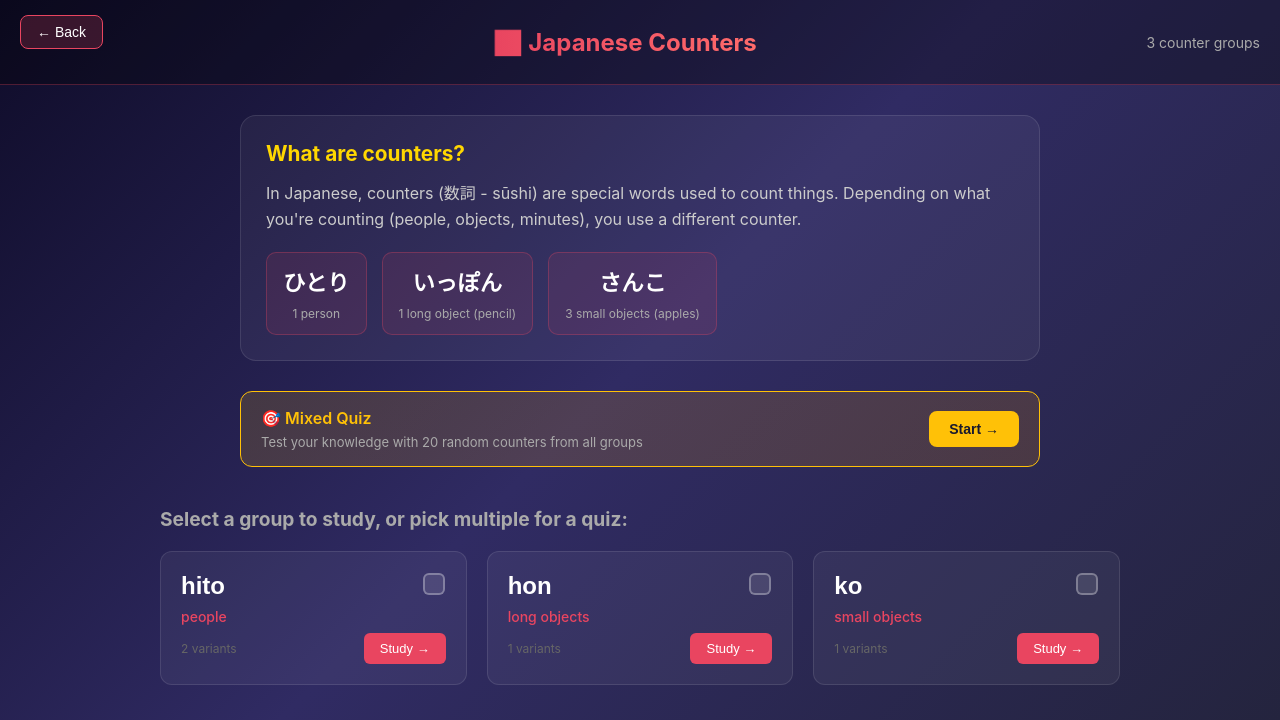
Test case: CountersMode uncovered flows › should start category quiz from selected groups
Expected: the heading "hito" is shown, [181,572,225,600]
Click the checkbox with class "group-checkbox" in the row of "hito". click: (434,584)
box: [422,572,446,596]
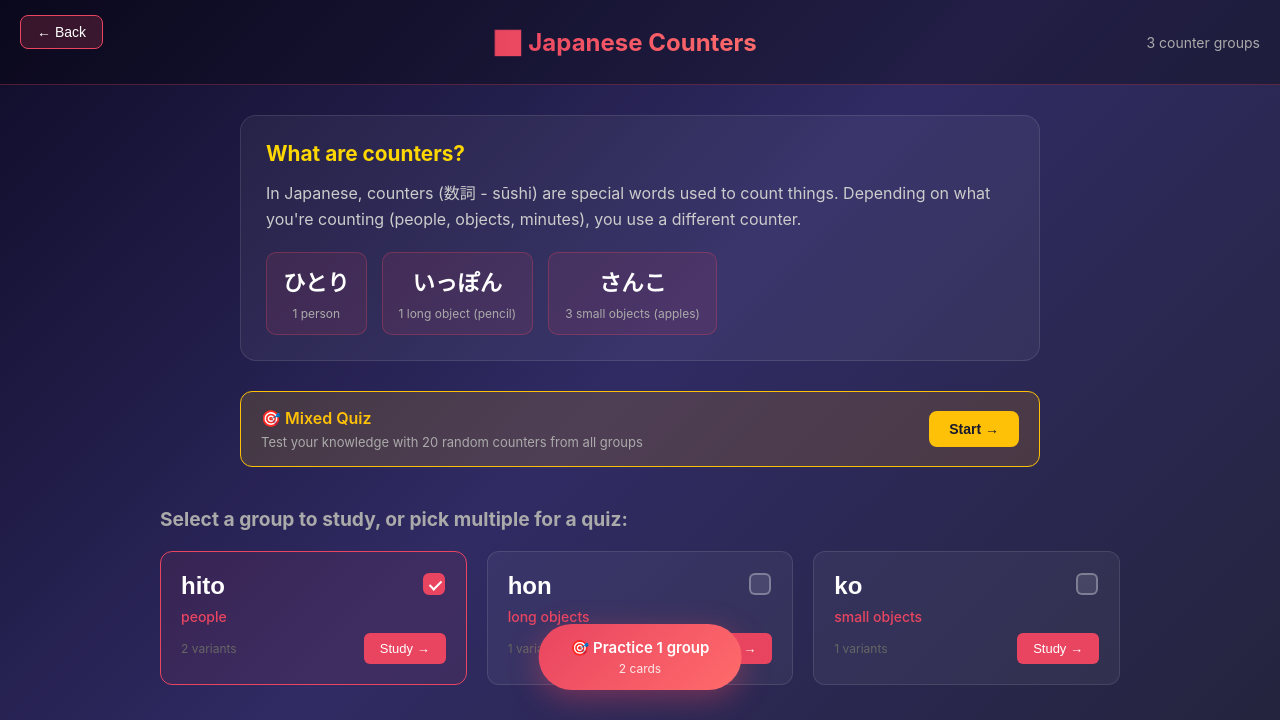
Now the text "🎯 Practice 1 group" is shown
Click the text "🎯 Practice 1 group". click: (640,648)
box: [571,638,709,657]
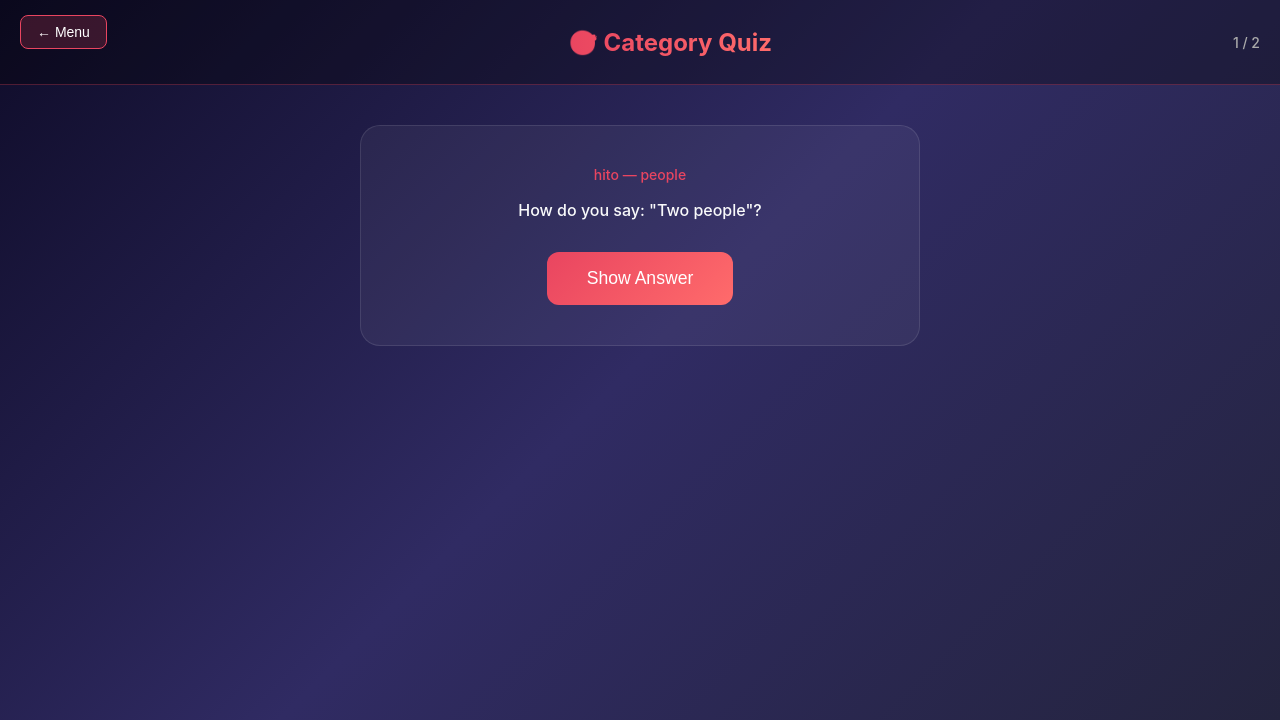
Now the heading "🎯 Category Quiz" is shown, box [568,28,772,56]
Now the text "1 / 2" is shown, box [1233,34,1260,50]
